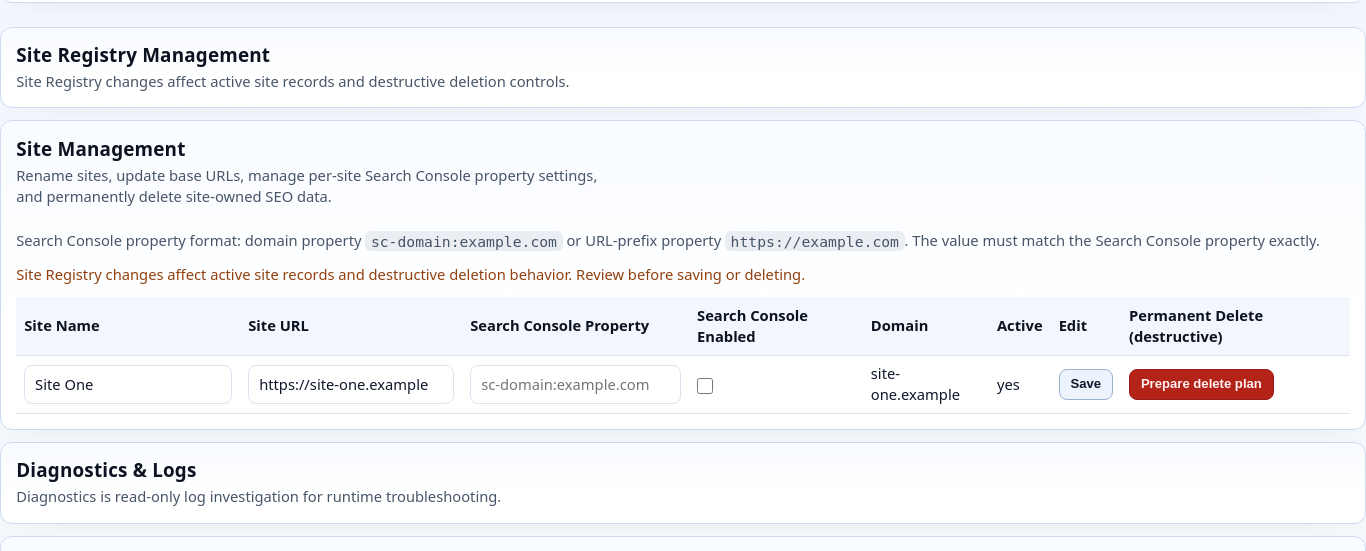
Scenario: admin route › shows lightweight Search Console property format hint for obvious invalid input
(page scrolled)
Type "example.com" into the field named "Search Console property site-1". click: [576, 384]
box: [470,365,681,404]
(page scrolled)
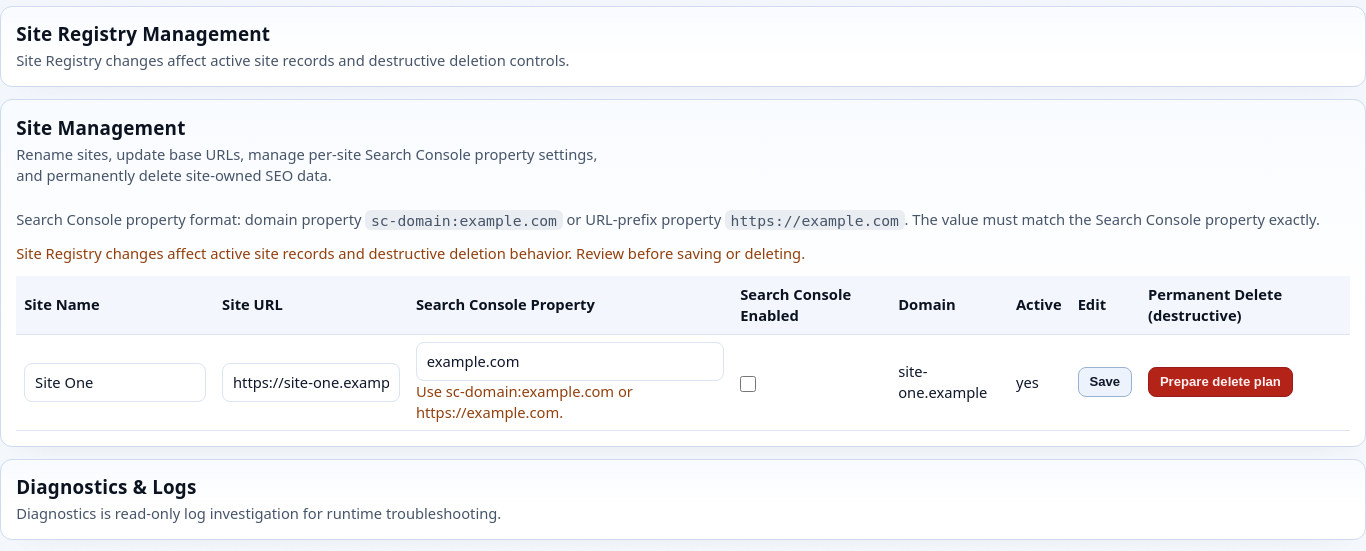
Check: the text "Use sc-domain:example.com or https://example.com." is shown, box [416,381,633,422]
